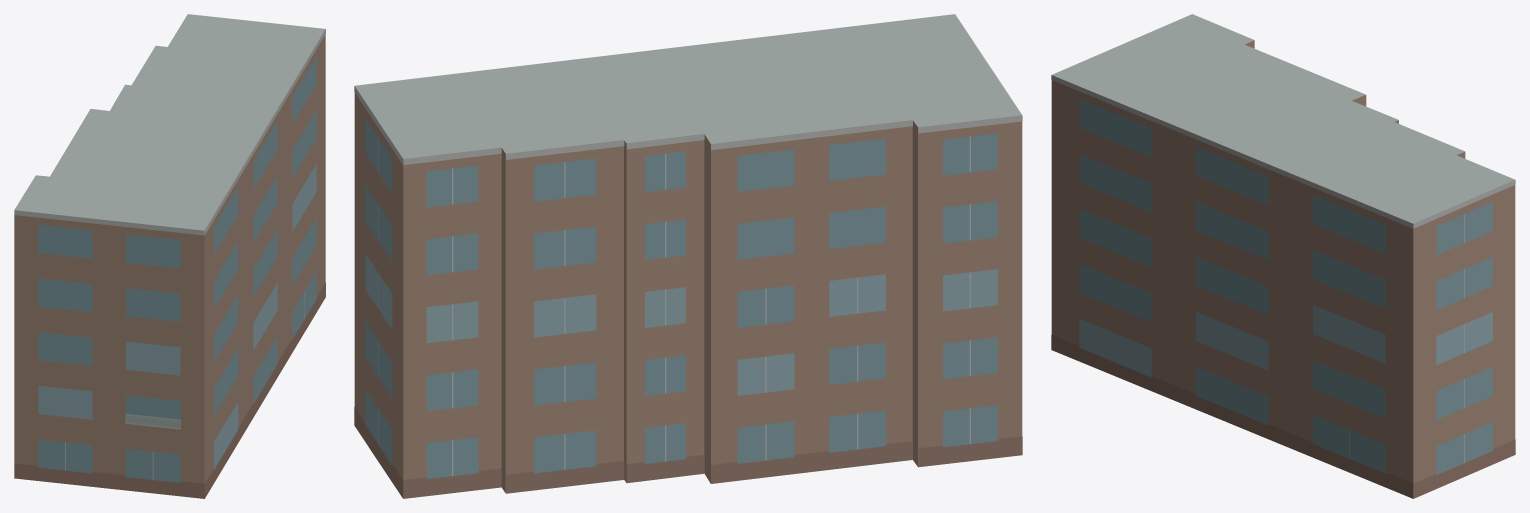
File: survey-upis-32689687.glb
The picture shows the model from 3 angles, left to right: view 1: azimuth 30°, elevation 25°; view 2: azimuth 150°, elevation 25°; view 3: azimuth 270°, elevation 25°; orthographic projection. The views are drawn at different scales.
Parts seen in each view (by area): view 1: survey-upis-32689687.tmp; view 2: survey-upis-32689687.tmp; view 3: survey-upis-32689687.tmp.
Boxes of the visible parts, <box> form: survey-upis-32689687.tmp: <box>14,14,325,498</box>; survey-upis-32689687.tmp: <box>354,14,1022,498</box>; survey-upis-32689687.tmp: <box>1051,14,1515,498</box>.
Bounding box in the file's own units: 22.27 × 13.6 × 20.8.
